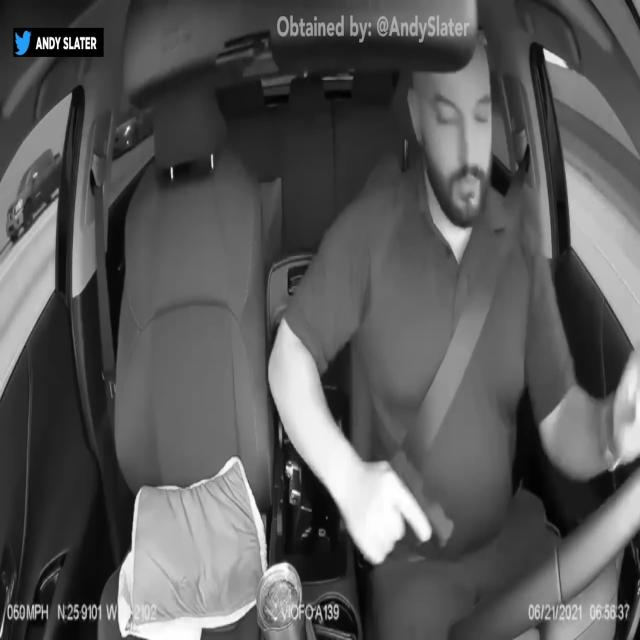senjata_api: (392, 449, 456, 554)
